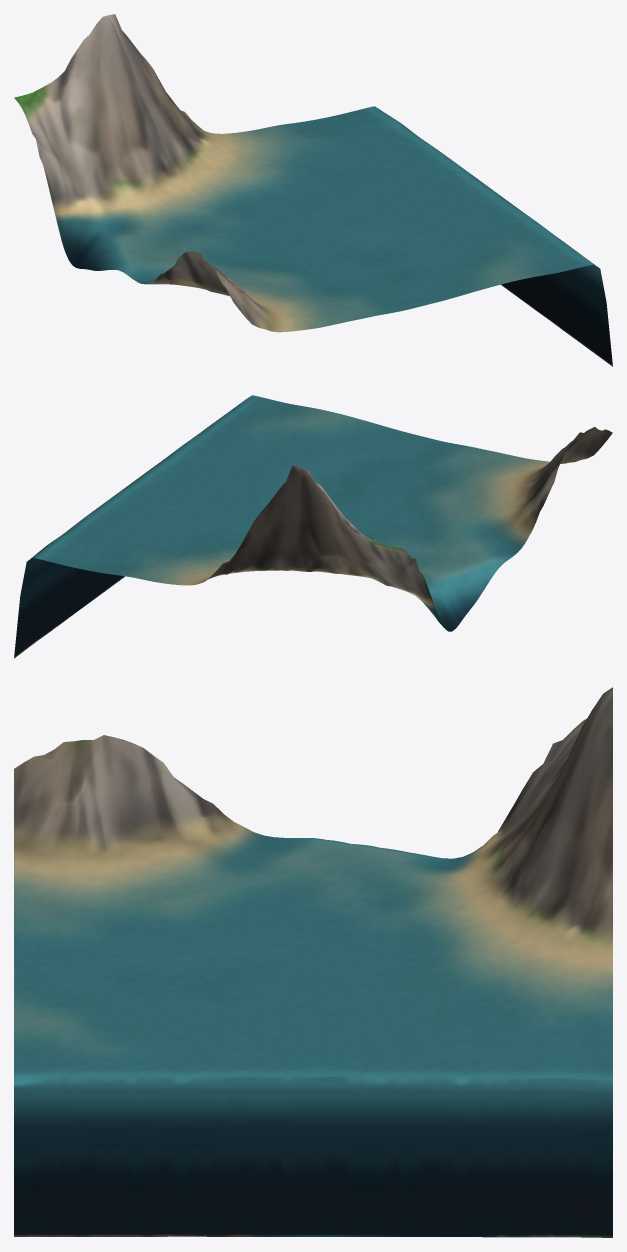
The picture shows the model from 3 angles, top to bottom: view 1: azimuth 30°, elevation 25°; view 2: azimuth 150°, elevation 25°; view 3: azimuth 270°, elevation 25°; orthographic projection. The views are drawn at different scales.
Parts seen in each view (by area): view 1: t192_064; view 2: t192_064; view 3: t192_064.
Part boxes in pixels (x1,y1,x2,y2): t192_064: (14,14,612,366); t192_064: (14,395,612,658); t192_064: (14,687,612,1237).
Size of the model in its own units: 64 by 42.11 by 64.
1 material, 1 textured.
